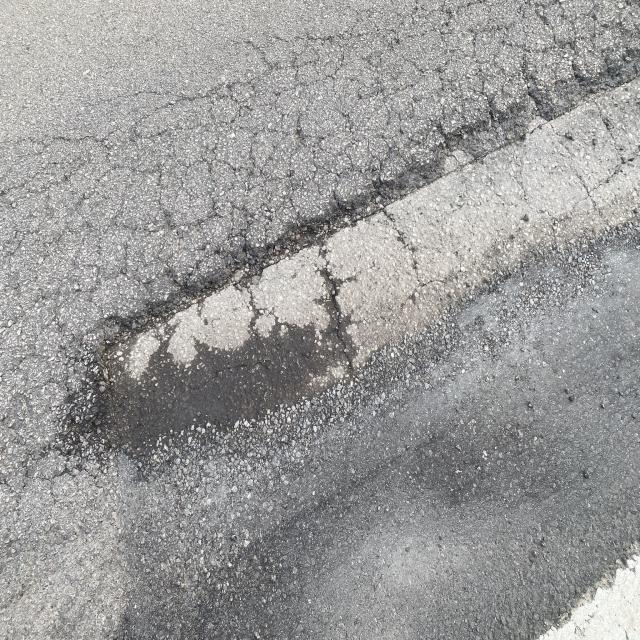pothole: (45, 164, 626, 546)
